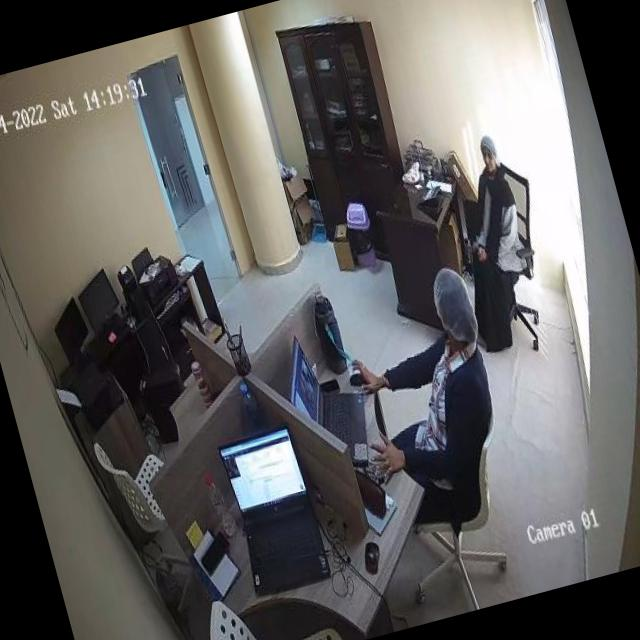hairnet: (427, 265, 477, 336), (478, 132, 502, 165)
